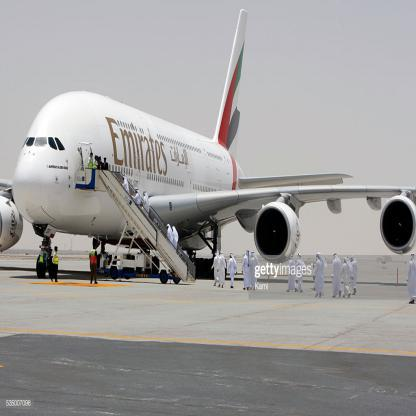CIV_Plane: (9, 6, 414, 288)
